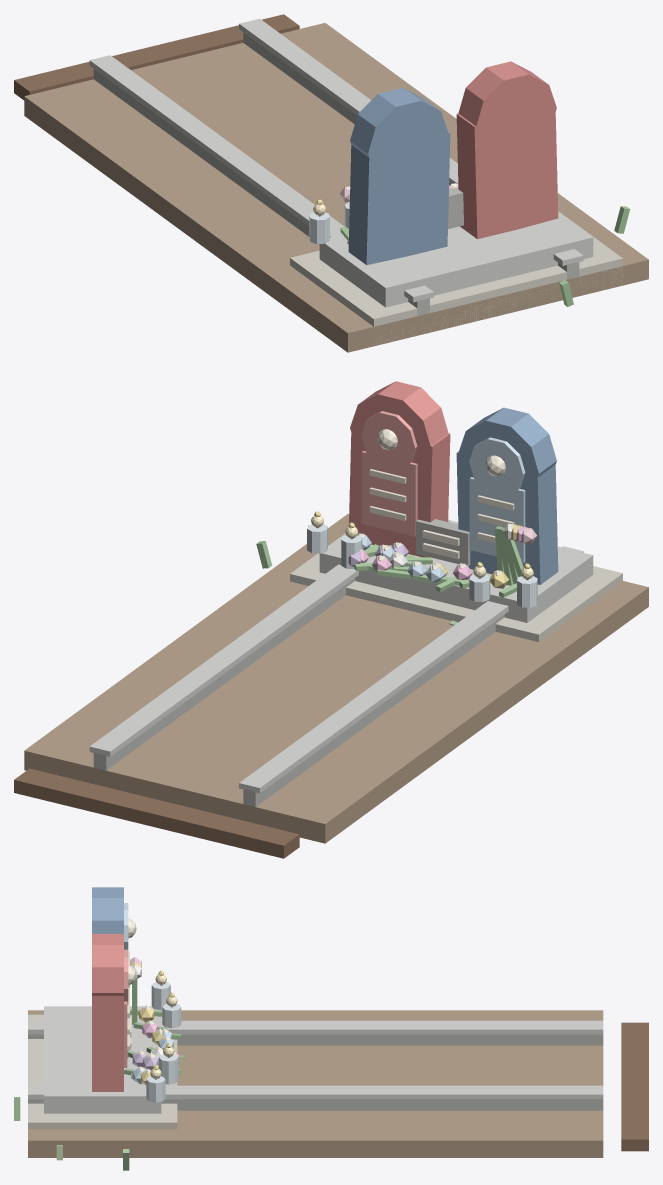
File: pomnik_u_koleji.glb
3 renders of one model, top to bottom at view 1: azimuth 30°, elevation 25°; view 2: azimuth 150°, elevation 25°; view 3: azimuth 270°, elevation 25°, orthographic. The views are drawn at different scales.
Visible parts, largest first — view 1: PomnikUKoleji_mud2, PomnikUKoleji_grey, PomnikUKoleji_deepblue, PomnikUKoleji_red2, PomnikUKoleji_stone2, PomnikUKoleji_grey3, PomnikUKoleji_darkwood, PomnikUKoleji_glass, PomnikUKoleji_green2; view 2: PomnikUKoleji_mud2, PomnikUKoleji_grey, PomnikUKoleji_deepblue, PomnikUKoleji_darkwood, PomnikUKoleji_red2, PomnikUKoleji_grey3, PomnikUKoleji_stone2, PomnikUKoleji_red, PomnikUKoleji_blue, PomnikUKoleji_cream, PomnikUKoleji_green2, PomnikUKoleji_glass; view 3: PomnikUKoleji_mud2, PomnikUKoleji_grey, PomnikUKoleji_grey3, PomnikUKoleji_red2, PomnikUKoleji_stone2, PomnikUKoleji_darkwood, PomnikUKoleji_glass, PomnikUKoleji_deepblue, PomnikUKoleji_green2, PomnikUKoleji_cream, PomnikUKoleji_yellow, PomnikUKoleji_blue (+2 smaller).
Boxes of the visible parts, x1,y1,x2,y2 form: PomnikUKoleji_mud2: [24, 23, 648, 352]; PomnikUKoleji_grey: [89, 18, 593, 307]; PomnikUKoleji_deepblue: [348, 88, 450, 265]; PomnikUKoleji_red2: [456, 61, 558, 239]; PomnikUKoleji_stone2: [290, 211, 622, 345]; PomnikUKoleji_grey3: [93, 32, 579, 315]; PomnikUKoleji_darkwood: [14, 14, 299, 100]; PomnikUKoleji_glass: [309, 202, 349, 243]; PomnikUKoleji_green2: [340, 206, 630, 306]; PomnikUKoleji_mud2: [24, 514, 648, 843]; PomnikUKoleji_grey: [89, 520, 593, 793]; PomnikUKoleji_deepblue: [456, 407, 558, 584]; PomnikUKoleji_darkwood: [14, 768, 299, 858]; PomnikUKoleji_red2: [349, 381, 450, 557]; PomnikUKoleji_grey3: [93, 519, 504, 806]; PomnikUKoleji_stone2: [290, 533, 622, 641]; PomnikUKoleji_red: [361, 411, 417, 536]; PomnikUKoleji_blue: [357, 437, 525, 582]; PomnikUKoleji_cream: [358, 429, 514, 575]; PomnikUKoleji_green2: [256, 526, 523, 625]; PomnikUKoleji_glass: [307, 524, 537, 607]; PomnikUKoleji_mud2: [28, 1010, 603, 1157]; PomnikUKoleji_grey: [28, 1006, 603, 1113]; PomnikUKoleji_grey3: [28, 1034, 603, 1110]; PomnikUKoleji_red2: [92, 934, 123, 1091]; PomnikUKoleji_stone2: [28, 1014, 177, 1129]; PomnikUKoleji_darkwood: [621, 1022, 648, 1151]; PomnikUKoleji_glass: [146, 982, 181, 1102]; PomnikUKoleji_deepblue: [92, 887, 123, 933]; PomnikUKoleji_green2: [14, 975, 184, 1170]; PomnikUKoleji_cream: [127, 918, 175, 1072]; PomnikUKoleji_yellow: [130, 961, 174, 1085]; PomnikUKoleji_blue: [124, 903, 173, 1084].
Size of the model in its own units: 3.23 by 1.84 by 5.96.
